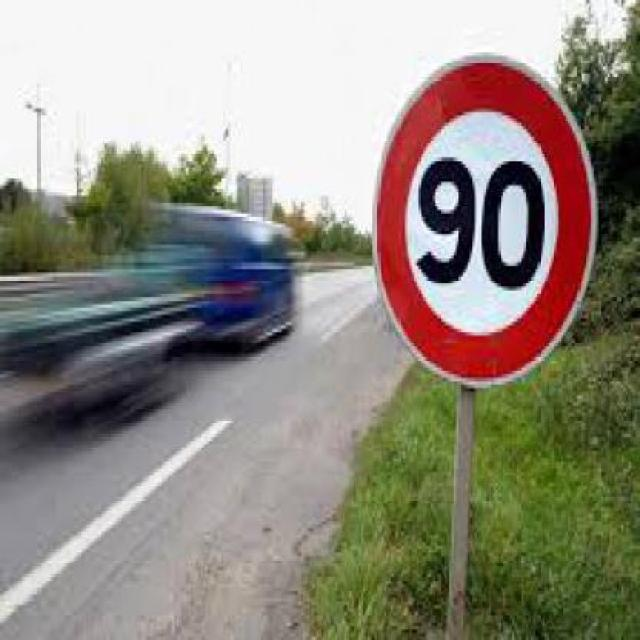speed limit 90: (372, 53, 598, 387)
